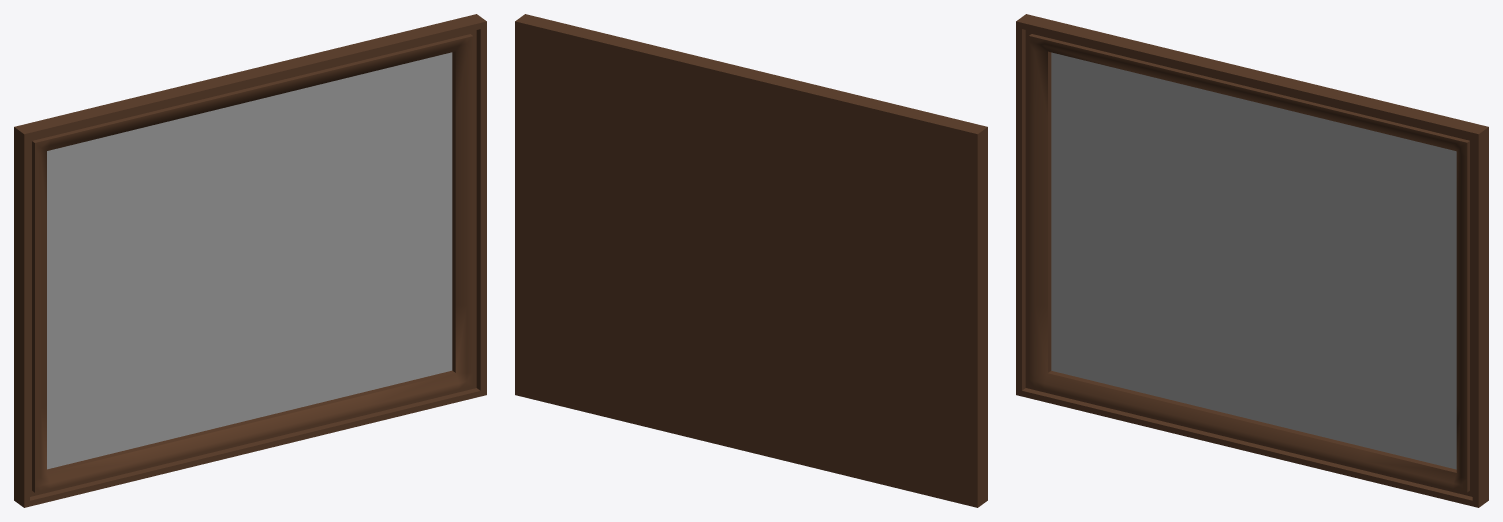
Rendered from wide_frame_Plane.fbx.
The picture shows the model from 3 angles, left to right: view 1: azimuth 30°, elevation 25°; view 2: azimuth 150°, elevation 25°; view 3: azimuth 330°, elevation 25°; orthographic projection.
Visible parts, largest first — view 1: picture, wide_frame; view 2: wide_frame; view 3: picture, wide_frame.
Part boxes in pixels (x1,y1,x2,y2): picture: (47,52,452,469); wide_frame: (14,14,486,507); wide_frame: (515,14,987,507); picture: (1051,52,1456,469); wide_frame: (1016,14,1488,507).
Bounding box in the file's own units: 0.9 × 0.6946 × 0.034.
